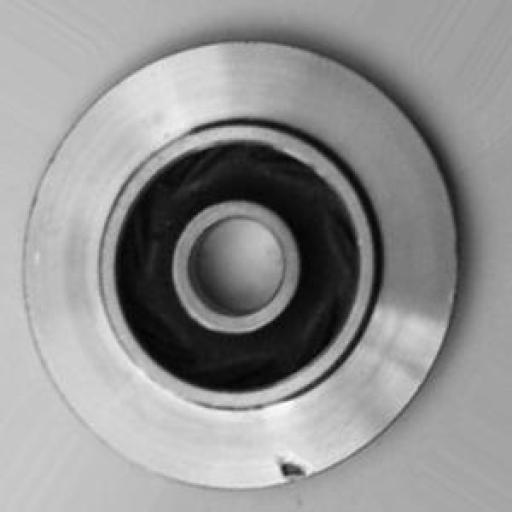defect: (262, 445, 326, 502)
